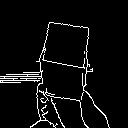cube: (23, 14, 105, 106)
